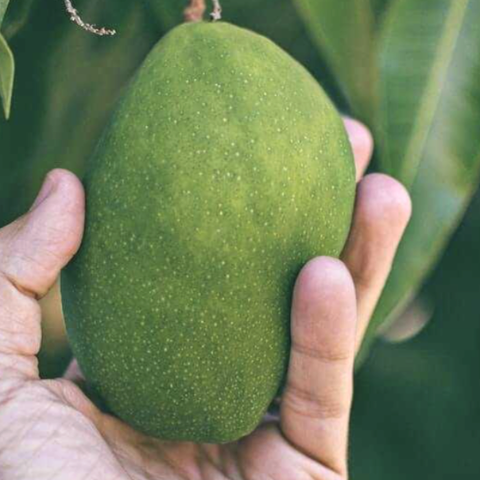mango: (6, 1, 451, 459)
